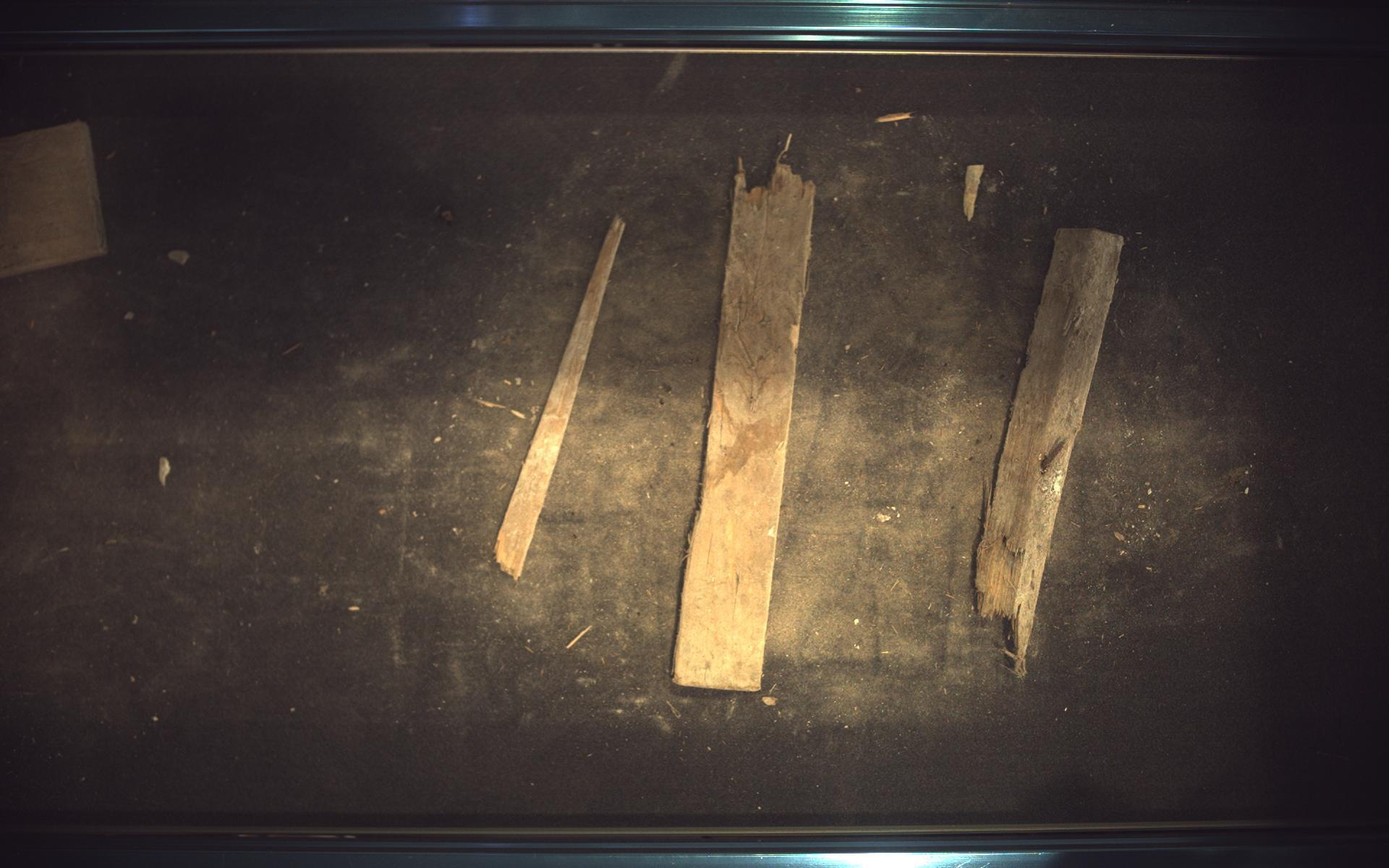wood: (674, 155, 817, 692), (977, 228, 1126, 676), (495, 216, 625, 579), (1, 120, 106, 278)
